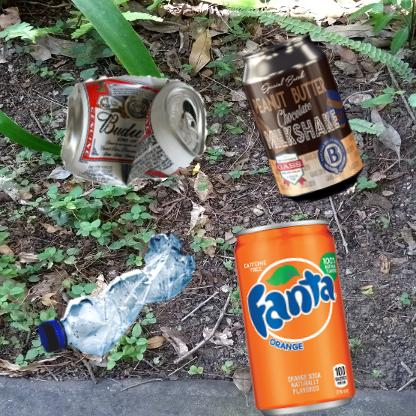botella: (10, 213, 293, 416)
lata: (10, 10, 299, 270), (213, 10, 414, 265), (213, 213, 382, 416)
